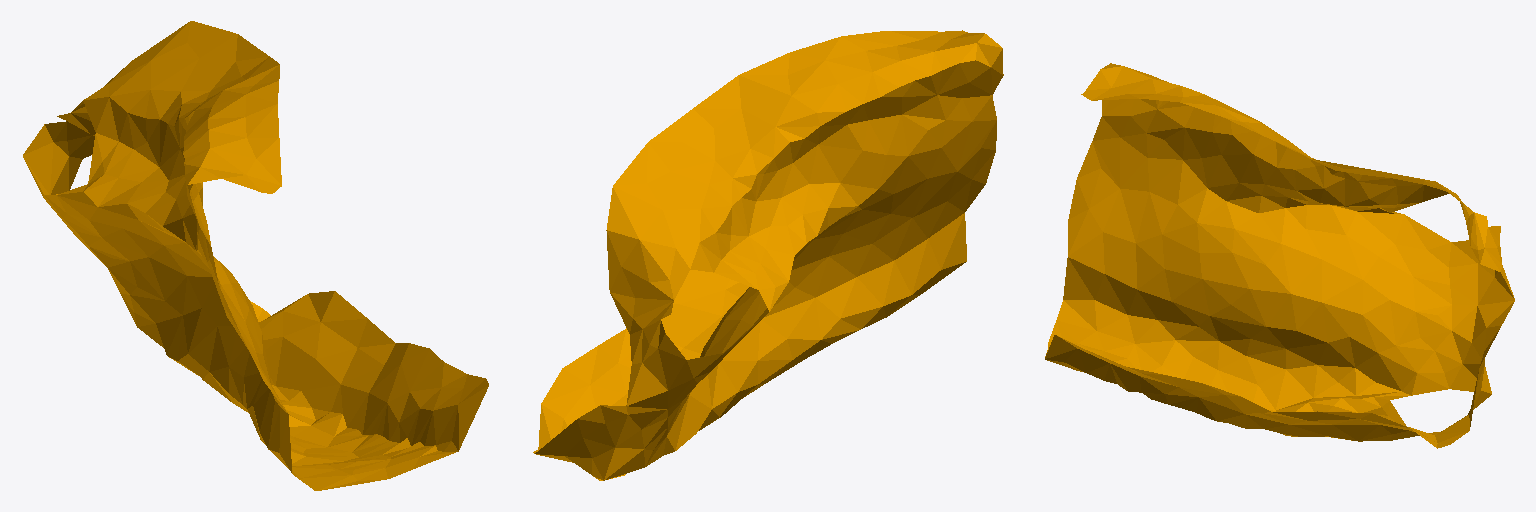
URDF robot description (init):
<?xml version='1.0' encoding='utf-8'?>
<robot name="init">
<link name="link_0"><inertial><mass value="1.0" /><origin rpy="0 0 0" xyz="0.000000 0.000000 0.000000" /><inertia ixx="1.0" ixy="0.0" ixz="0.0" iyy="1.0" iyz="0.0" izz="1.0" /></inertial><visual><origin rpy="0 0 0" xyz="0.000000 0.000000 0.000000" /><geometry><mesh filename="./clothHuman/cloth/424.obj" /></geometry></visual><collision><origin rpy="0 0 0" xyz="0.000000 0.000000 0.000000" /><geometry><mesh filename="./clothHuman/cloth/424.obj" /></geometry></collision></link></robot>

--- Facts derived from the render (not from the file) ---
3 views of the same robot in one strip: view 1: azimuth 30°, elevation 25°; view 2: azimuth 150°, elevation 25°; view 3: azimuth 270°, elevation 25° (orthographic).
Model init with 1 links and 0 joints (none), rooted at link_0, posed every joint at zero.
Links seen in each view (by area): view 1: link_0; view 2: link_0; view 3: link_0.
Link boxes in pixels (bbox=[...]): link_0: bbox=[23, 21, 488, 490]; link_0: bbox=[533, 30, 1003, 480]; link_0: bbox=[1045, 63, 1514, 448].
Size in the robot's own frame: 2.22 by 3.76 by 2.65 metres.
1 mesh visuals loaded from 1 distinct referenced files (1 OBJ).